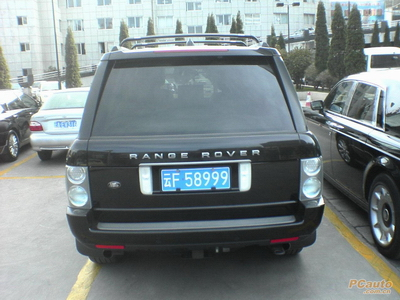plate_number: (156, 165, 232, 190), (52, 120, 79, 128)
